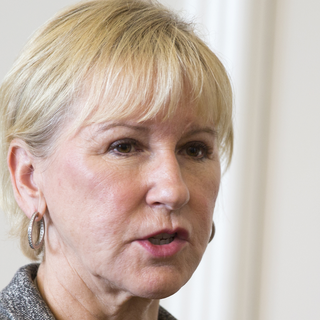eye: (99, 133, 149, 164), (169, 134, 217, 166)
